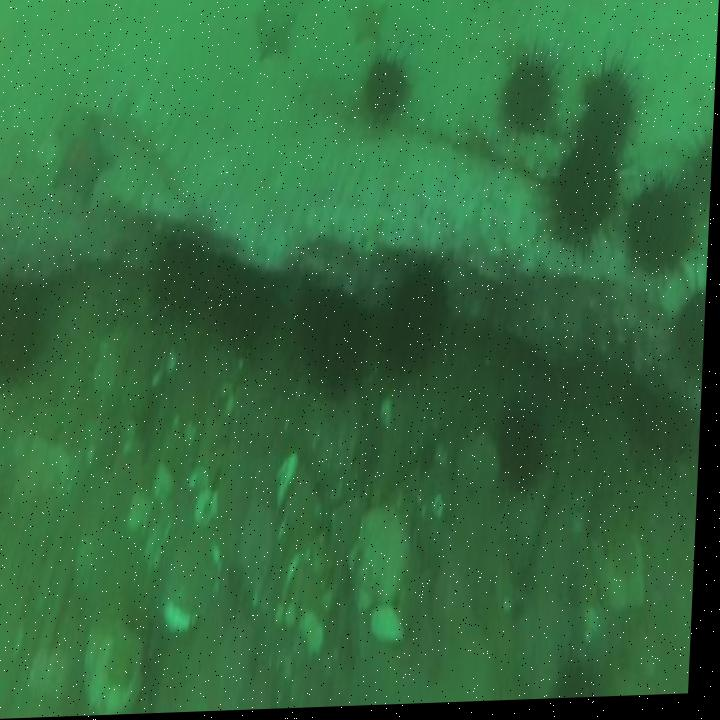echinus: (296, 291, 370, 393), (387, 273, 451, 379), (633, 187, 698, 285), (555, 152, 618, 252), (154, 239, 213, 330), (0, 276, 43, 388), (583, 70, 632, 157), (497, 414, 550, 492), (222, 272, 274, 348), (504, 60, 555, 133), (363, 57, 407, 126), (680, 296, 709, 390)
scallop: (349, 510, 419, 613)
starfish: (54, 116, 115, 204), (252, 0, 295, 69), (348, 0, 385, 50)
